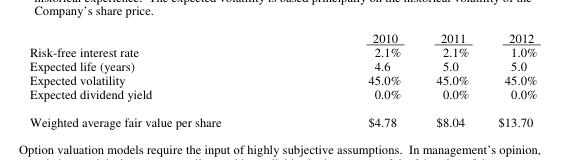table: (28, 29, 536, 129)
table column: (28, 29, 293, 129), (293, 29, 417, 129), (417, 29, 482, 129), (482, 29, 536, 129)
table column header: (28, 29, 536, 44)
table row: (28, 106, 536, 129), (28, 86, 536, 106), (28, 29, 536, 44), (28, 44, 536, 58), (28, 58, 536, 72), (28, 72, 536, 86)
